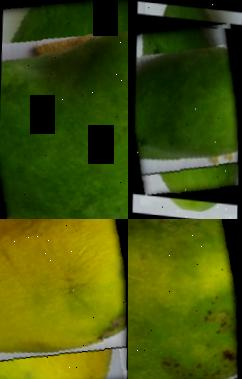PartiallyRipe: (128, 219, 242, 379)
Ripe: (0, 219, 128, 379)
Unripe: (0, 0, 128, 219), (129, 18, 242, 199)
